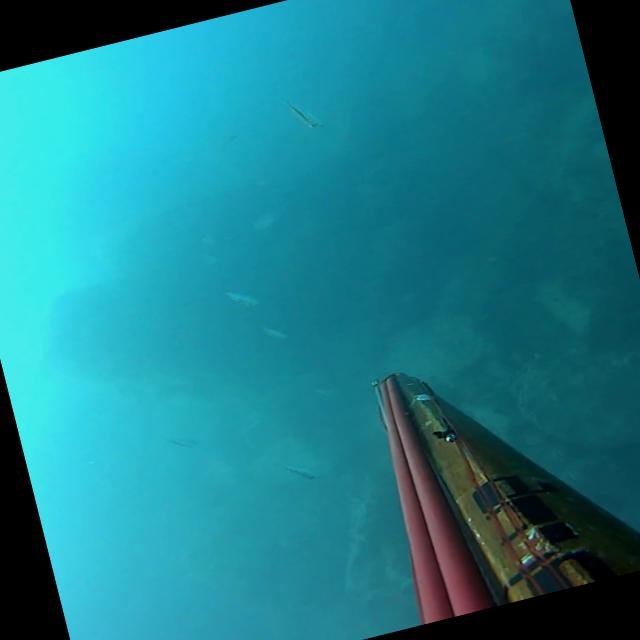Balon Baligi: (276, 86, 324, 134), (282, 456, 320, 484), (222, 282, 260, 310), (164, 431, 197, 452), (260, 320, 286, 342)
